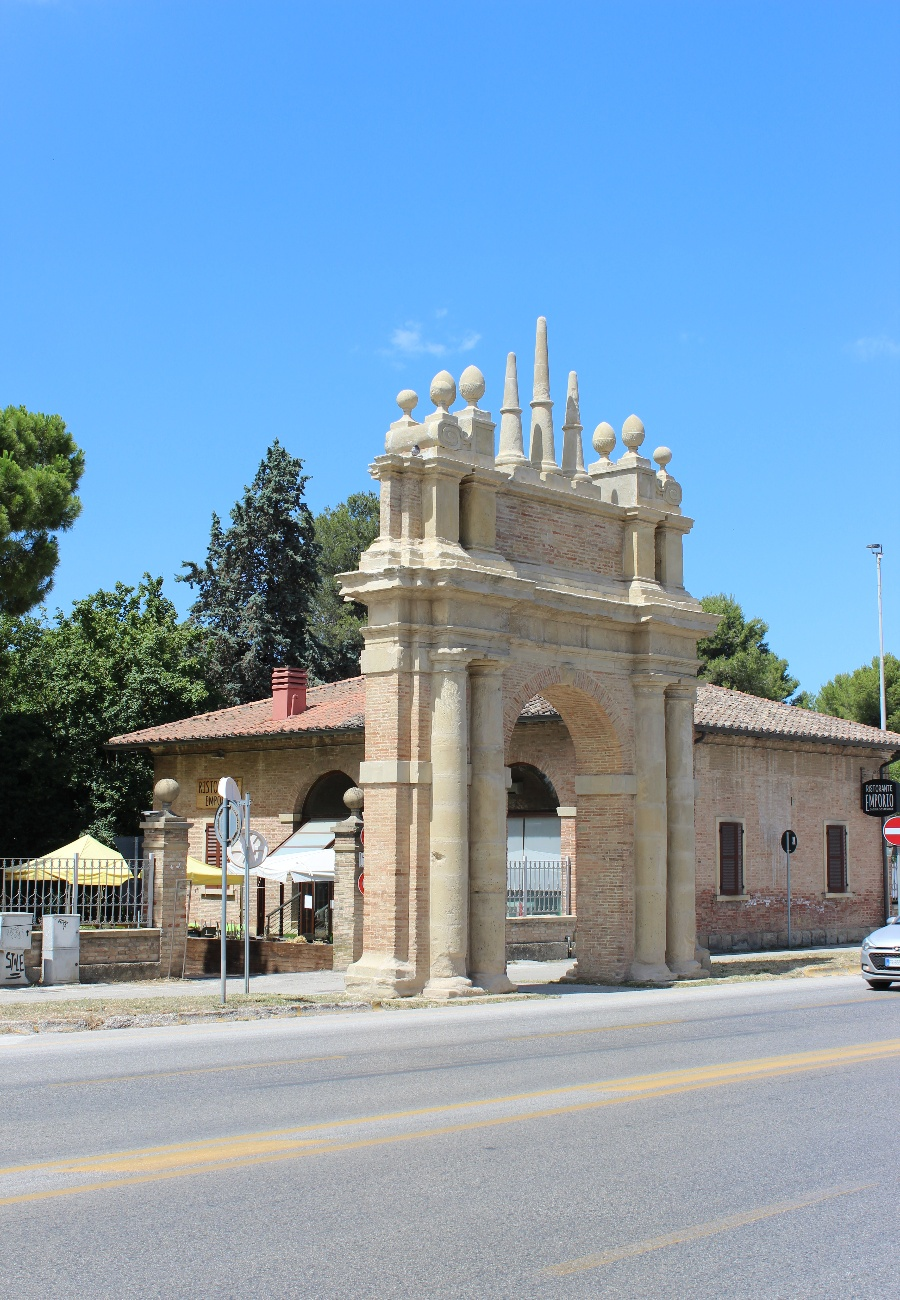Arco di Trionfo: (332, 314, 731, 983)
